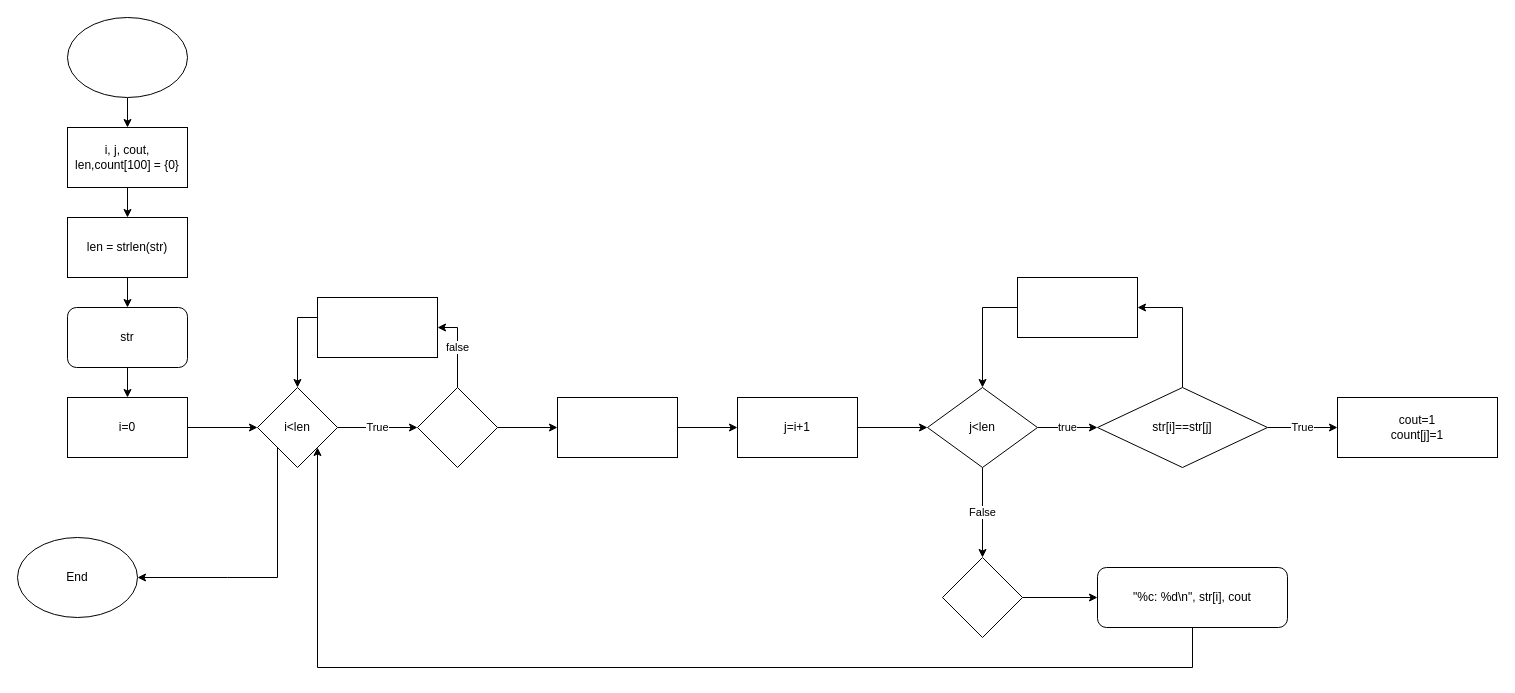
The diagram is 1515 pixels wide and 693 high, and some of its shapes have lost their labels. Each missing label, with the centre of its shape:
count[i]==0: pixel 982 597
cout=1: pixel 617 427
i++: pixel 377 327
j++: pixel 1077 307
Start: pixel 127 57
str[i]==' ': pixel 457 427
